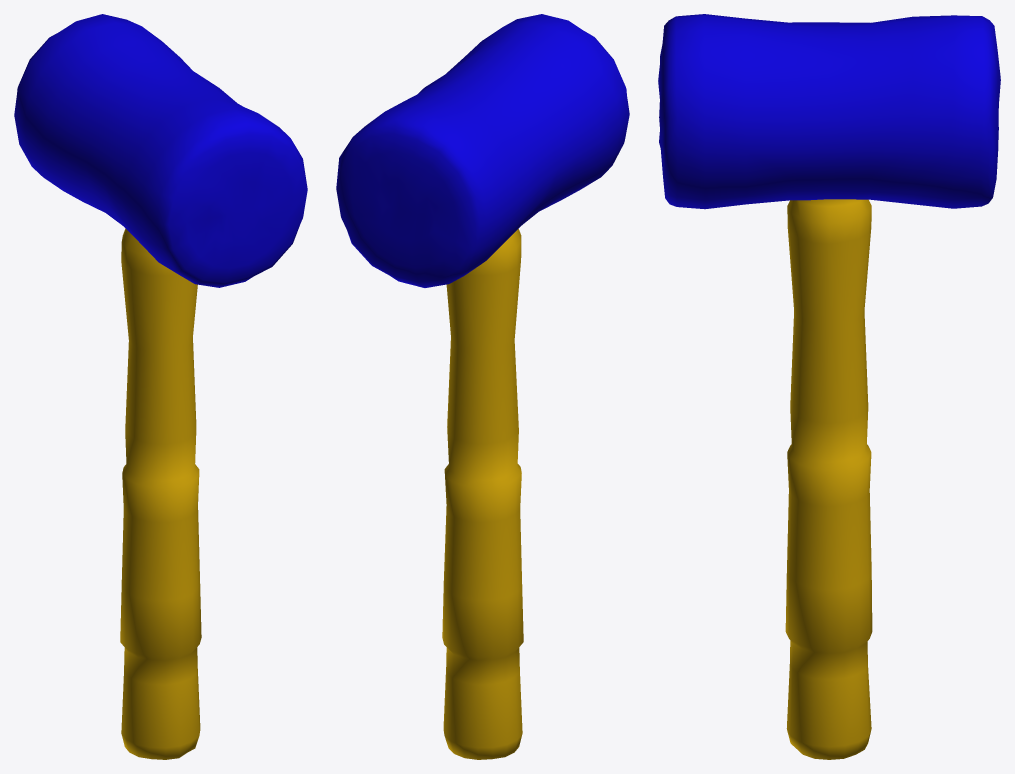
File: MetalHammer.fbx
3 renders of one model, left to right at view 1: azimuth 30°, elevation 25°; view 2: azimuth 150°, elevation 25°; view 3: azimuth 270°, elevation 25°, orthographic. The views are drawn at different scales.
Parts seen in each view (by area): view 1: MetalHammer; view 2: MetalHammer; view 3: MetalHammer.
Part boxes in pixels (left/top/right/bottom): MetalHammer: left=14, top=14, right=307, bottom=759; MetalHammer: left=336, top=14, right=629, bottom=759; MetalHammer: left=658, top=14, right=1000, bottom=759.
Bounding box in the file's own units: 0.1713 × 0.708 × 0.3022.
